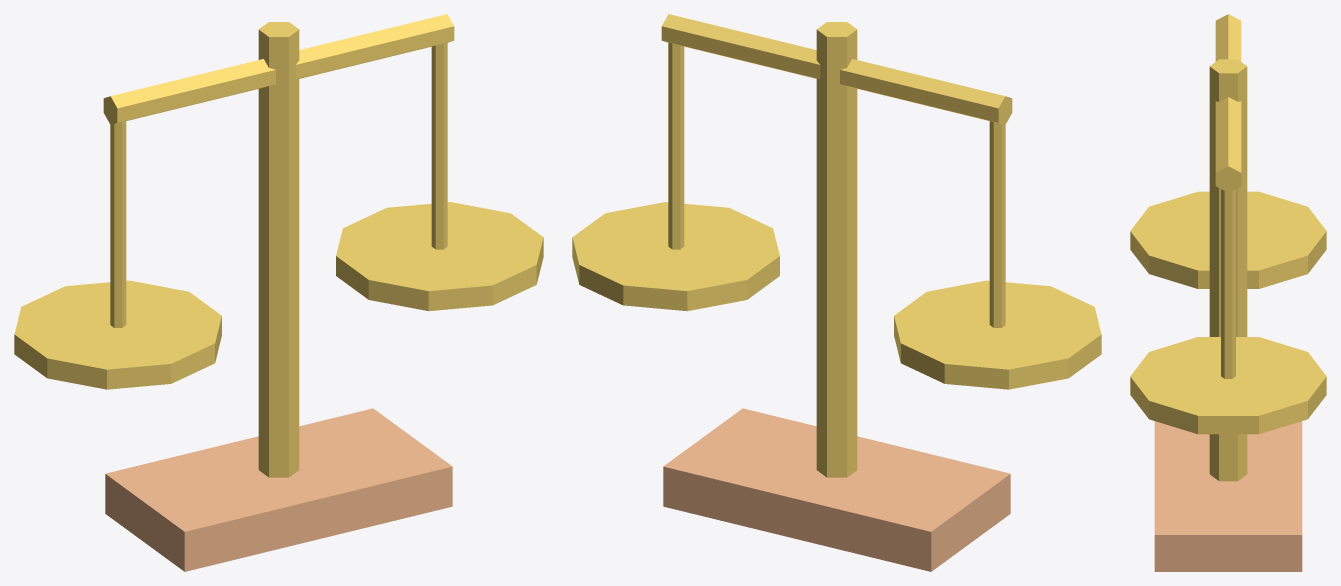
3 views of the same model, side by side, from view 1: azimuth 30°, elevation 25°; view 2: azimuth 150°, elevation 25°; view 3: azimuth 270°, elevation 25° (orthographic). The views are drawn at different scales.
Visible parts, largest first — view 1: Base, Pillar, Scale pan.001, Scale pan, Beam, Suspension.001, Suspension; view 2: Base, Pillar, Scale pan.001, Scale pan, Beam, Suspension.001, Suspension; view 3: Base, Scale pan.001, Scale pan, Pillar, Beam, Suspension.001.
Part boxes in pixels (bbox=[...]): Base: bbox=[105, 408, 452, 571]; Pillar: bbox=[258, 22, 299, 477]; Scale pan.001: bbox=[336, 202, 543, 311]; Scale pan: bbox=[14, 280, 221, 389]; Beam: bbox=[103, 14, 454, 124]; Suspension.001: bbox=[431, 42, 447, 249]; Suspension: bbox=[110, 121, 126, 327]; Base: bbox=[663, 408, 1010, 571]; Pillar: bbox=[816, 22, 857, 477]; Scale pan.001: bbox=[572, 202, 779, 311]; Scale pan: bbox=[894, 280, 1101, 389]; Beam: bbox=[661, 14, 1012, 124]; Suspension.001: bbox=[668, 42, 684, 249]; Suspension: bbox=[989, 121, 1005, 327]; Base: bbox=[1154, 421, 1302, 571]; Scale pan.001: bbox=[1130, 337, 1326, 434]; Scale pan: bbox=[1130, 191, 1326, 288]; Pillar: bbox=[1209, 59, 1247, 481]; Beam: bbox=[1215, 14, 1241, 192]; Suspension.001: bbox=[1221, 189, 1235, 378].
Bounding box in the file's own units: 0.6483 × 0.6 × 0.24.
1 material, 1 textured.
